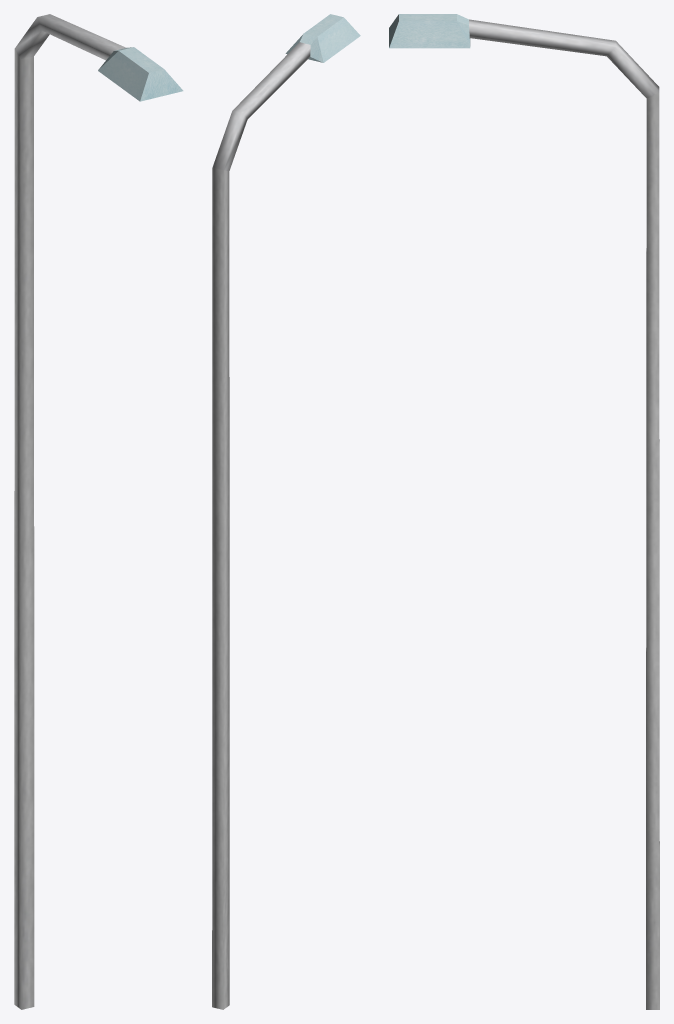
File: StreetLamp.fbx
The picture shows the model from 3 angles, left to right: view 1: azimuth 30°, elevation 25°; view 2: azimuth 150°, elevation 25°; view 3: azimuth 270°, elevation 25°; orthographic projection. The views are drawn at different scales.
Visible parts, largest first — view 1: StreetLamp; view 2: StreetLamp; view 3: StreetLamp.
Boxes of the visible parts, x1,y1,x2,y2 form: StreetLamp: (14, 14, 183, 1009); StreetLamp: (212, 14, 360, 1009); StreetLamp: (389, 14, 659, 1009).
Bounding box in the file's own units: 41.14 × 929 × 231.
